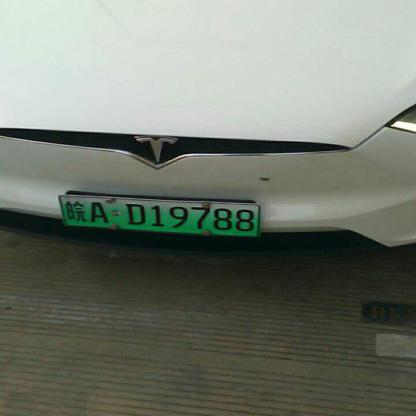lp: (59, 196, 259, 235)
